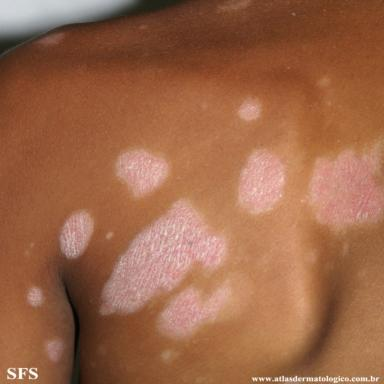Psoriasis: (101, 200, 225, 314), (308, 149, 383, 228), (158, 284, 230, 337), (237, 150, 285, 214), (116, 150, 168, 197), (59, 210, 93, 259), (238, 99, 260, 121), (44, 340, 63, 363), (38, 32, 65, 47), (218, 0, 251, 12), (27, 287, 44, 307), (160, 349, 179, 364)
